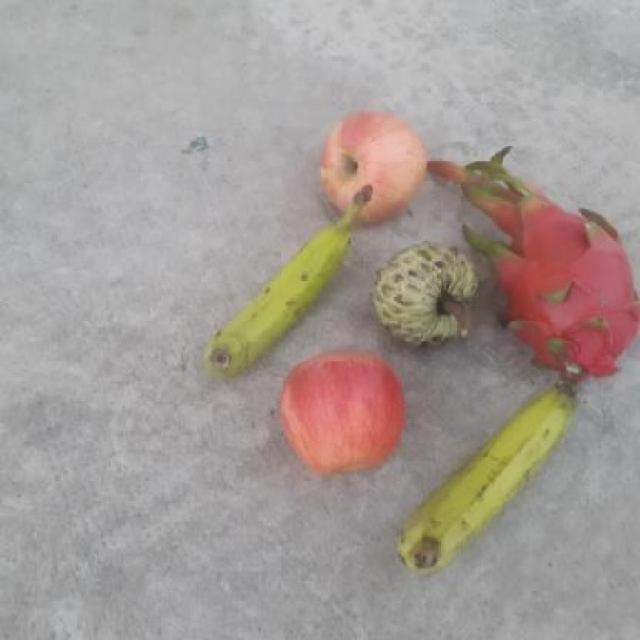apple: (276, 348, 410, 480), (315, 106, 433, 226)
banana: (397, 378, 580, 572), (204, 183, 373, 379)
dragon fruit: (477, 188, 640, 383)
sugar apple: (368, 236, 488, 359)
